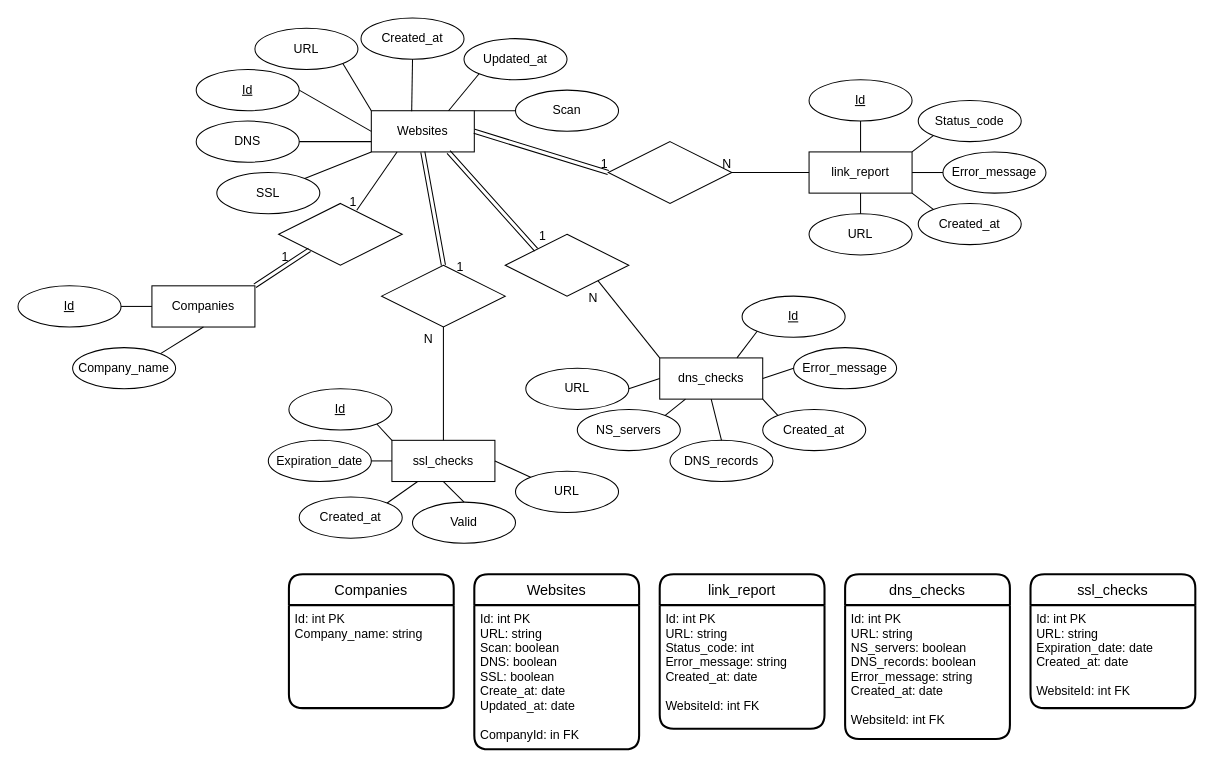
This 1214x768 diagram has some shape labels left out. Each missing label, with the centre of its shape:
"Belongs to" goes at point (340, 233).
"Checks" goes at point (566, 264).
"Has" goes at point (443, 295).
"Reports" goes at point (669, 172).
